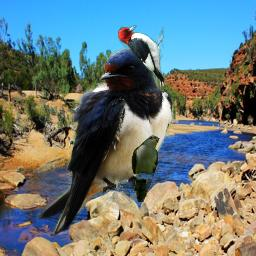Cuckoo: (131, 135, 160, 202)
Swallow: (37, 47, 175, 240)
Woodpecker: (118, 25, 164, 87)
